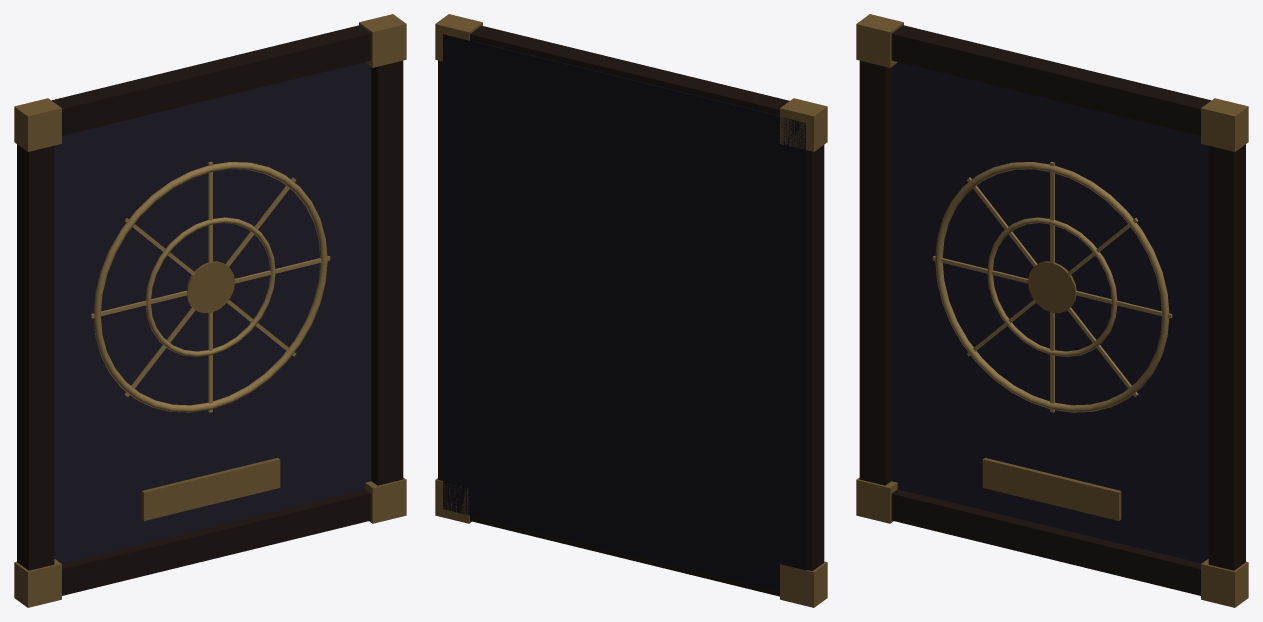
The model's file is celestial_poster.glb.
3 renders of one model, left to right at view 1: azimuth 30°, elevation 25°; view 2: azimuth 150°, elevation 25°; view 3: azimuth 330°, elevation 25°, orthographic.
Parts seen in each view (by area): view 1: CelestialPosterFrame; view 2: CelestialPosterFrame; view 3: CelestialPosterFrame.
Boxes of the visible parts, box(x1,y1,x2,y2) form: CelestialPosterFrame: box(14, 14, 406, 607); CelestialPosterFrame: box(435, 14, 827, 607); CelestialPosterFrame: box(856, 14, 1248, 607).
Bounding box in the file's own units: 0.668 × 0.828 × 0.042.
